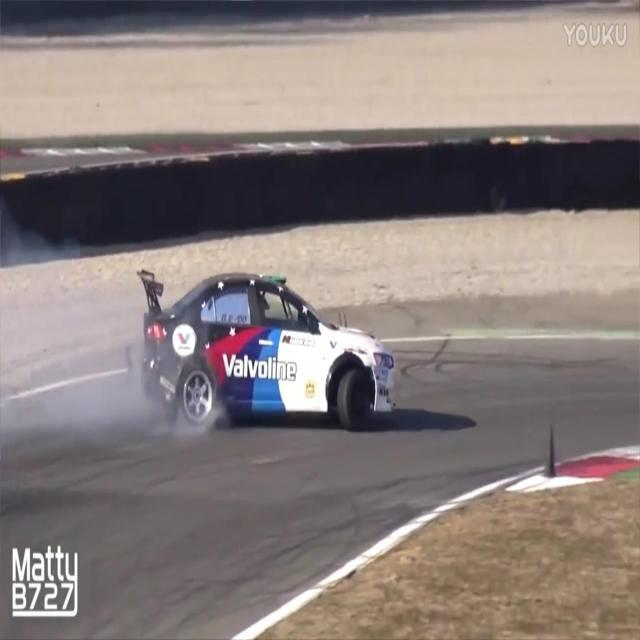Smoke: (0, 196, 225, 440)
